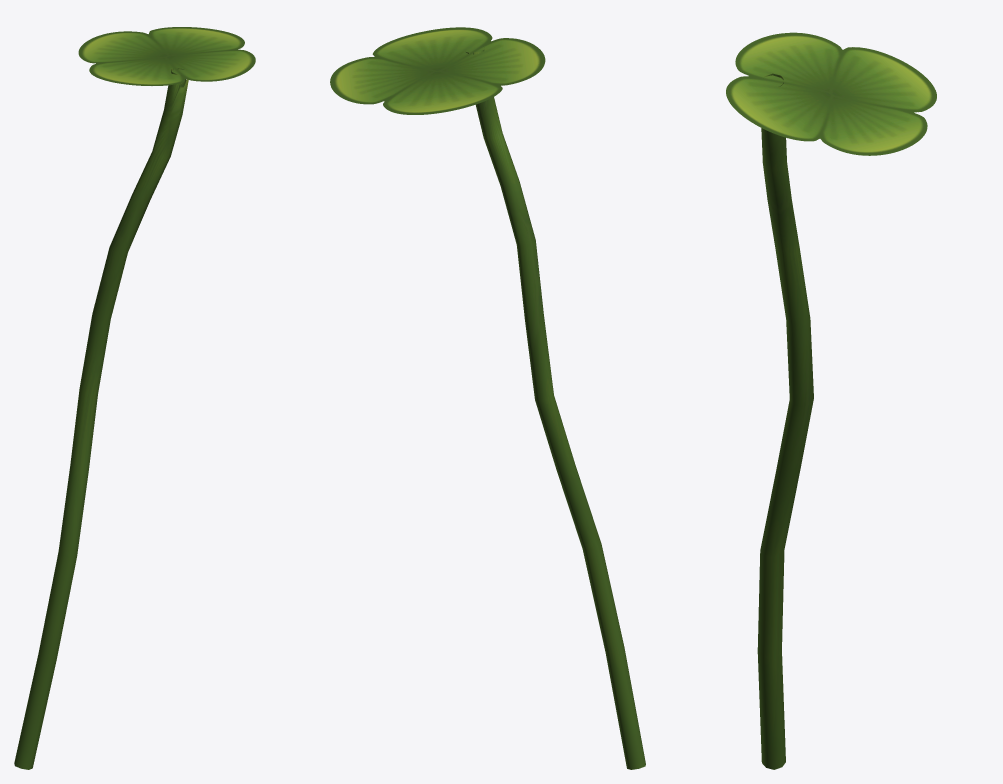
File: LillypadBob.fbx
3 views of the same model, side by side, from view 1: azimuth 30°, elevation 25°; view 2: azimuth 150°, elevation 25°; view 3: azimuth 270°, elevation 25° (orthographic). The views are drawn at different scales.
Parts seen in each view (by area): view 1: LillypadBase (2), RoofTile; view 2: LillypadBase (2), RoofTile; view 3: RoofTile, LillypadBase (2).
Boxes of the visible parts, x1,y1,x2,y2 form: LillypadBase (2): (14, 68, 188, 769); RoofTile: (78, 27, 255, 85); LillypadBase (2): (466, 47, 645, 769); RoofTile: (330, 27, 545, 114); RoofTile: (726, 32, 936, 155); LillypadBase (2): (757, 73, 813, 769).
Size of the model in its own units: 1.02 by 2.2 by 0.8011.
